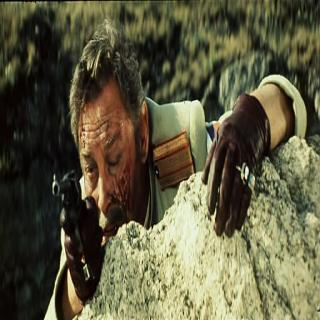gun: (50, 166, 90, 286)
